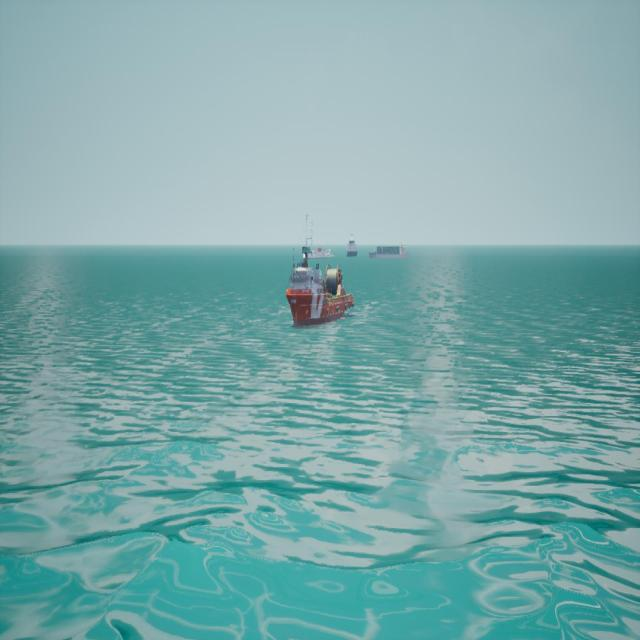tug boat: (287, 216, 354, 328)
